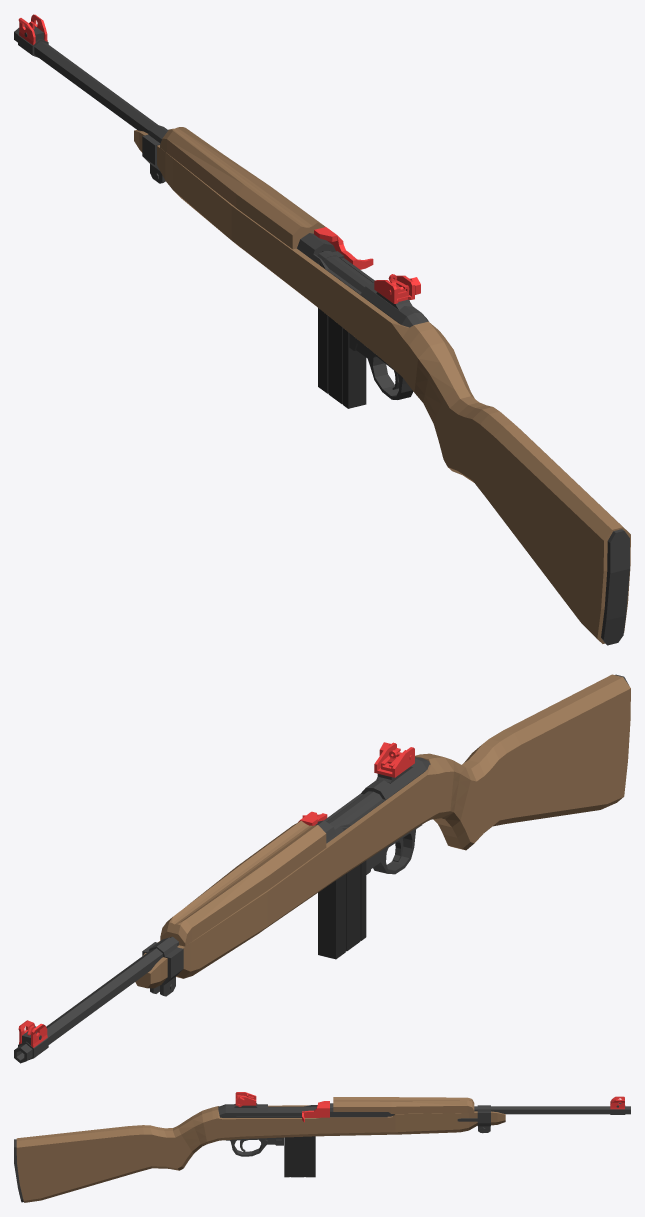
File: subfusil_10.glb
The picture shows the model from 3 angles, top to bottom: view 1: azimuth 30°, elevation 25°; view 2: azimuth 150°, elevation 25°; view 3: azimuth 270°, elevation 25°; orthographic projection. The views are drawn at different scales.
Parts seen in each view (by area): view 1: p13_accent, p14_accent, p34_mag, p33_paint, p0_paint, p15_paint, p22_paint; view 2: p13_accent, p14_accent, p34_mag, p0_paint, p15_paint, p22_paint, p8_paint, p20_paint, p26_del, p7_accent; view 3: p13_accent, p14_accent, p34_mag, p0_paint, p15_paint, p16_paint, p18_del, p22_paint, p8_paint, p20_paint, p26_del, p33_paint (+1 smaller).
Boxes of the visible parts, x1=… form: p13_accent: x1=157, y1=145, x2=630, y2=643; p14_accent: x1=160, y1=127, x2=325, y2=249; p34_mag: x1=318, y1=308, x2=366, y2=408; p33_paint: x1=601, y1=529, x2=629, y2=645; p0_paint: x1=14, y1=28, x2=328, y2=253; p15_paint: x1=297, y1=246, x2=428, y2=327; p22_paint: x1=356, y1=343, x2=413, y2=399; p13_accent: x1=158, y1=674, x2=630, y2=978; p14_accent: x1=160, y1=821, x2=326, y2=946; p34_mag: x1=318, y1=860, x2=366, y2=959; p0_paint: x1=14, y1=936, x2=178, y2=1063; p15_paint: x1=324, y1=757, x2=430, y2=843; p22_paint: x1=371, y1=829, x2=415, y2=874; p8_paint: x1=142, y1=937, x2=183, y2=985; p20_paint: x1=327, y1=791, x2=382, y2=826; p26_del: x1=374, y1=742, x2=414, y2=777; p7_accent: x1=135, y1=953, x2=167, y2=988; p13_accent: x1=16, y1=1105, x2=477, y2=1202; p14_accent: x1=333, y1=1097, x2=474, y2=1113; p34_mag: x1=284, y1=1136, x2=315, y2=1177; p0_paint: x1=474, y1=1106, x2=630, y2=1114; p15_paint: x1=218, y1=1104, x2=394, y2=1117; p16_paint: x1=330, y1=1110, x2=387, y2=1117; p18_del: x1=302, y1=1101, x2=329, y2=1122; p22_paint: x1=230, y1=1139, x2=275, y2=1156; p8_paint: x1=477, y1=1105, x2=490, y2=1126; p20_paint: x1=268, y1=1106, x2=310, y2=1112; p26_del: x1=235, y1=1092, x2=256, y2=1105; p33_paint: x1=14, y1=1139, x2=23, y2=1202.
Bounding box in the file's own units: 0.0464 × 0.174 × 0.904.
